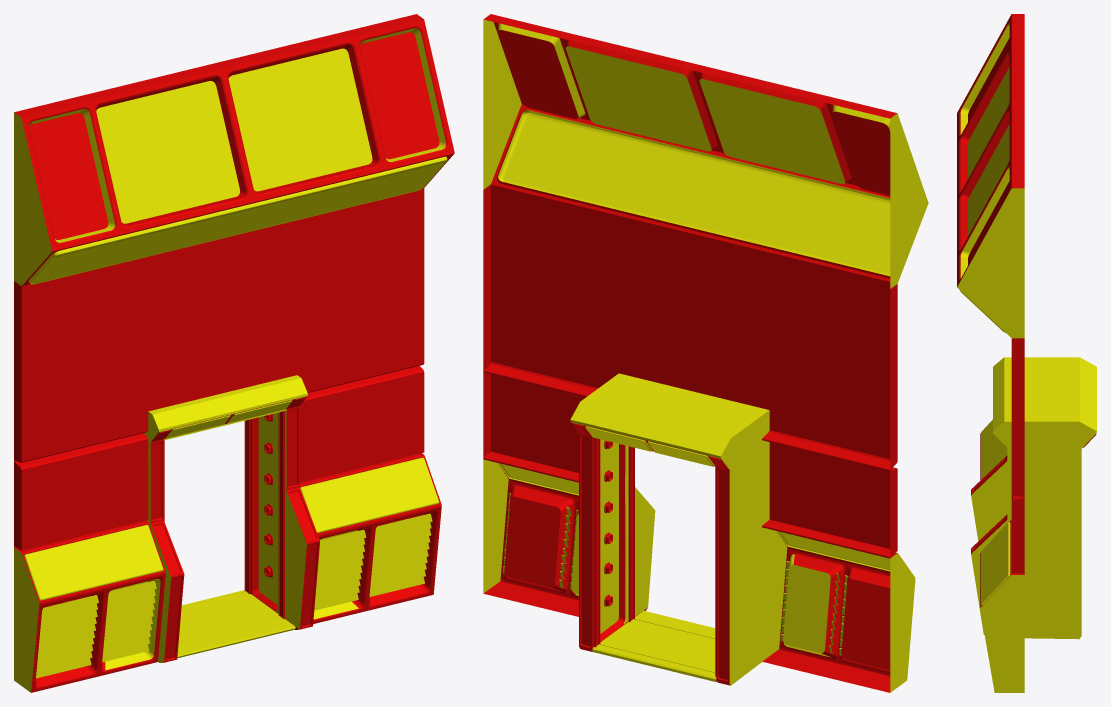
Rendered from Wall_2.fbx.
The picture shows the model from 3 angles, left to right: view 1: azimuth 30°, elevation 25°; view 2: azimuth 150°, elevation 25°; view 3: azimuth 270°, elevation 25°; orthographic projection. The views are drawn at different scales.
Parts seen in each view (by area): view 1: polySurface2583; view 2: polySurface2583; view 3: polySurface2583.
Boxes of the visible parts, left/top/right/bottom form: polySurface2583: left=14, top=14, right=454, bottom=692; polySurface2583: left=483, top=14, right=928, bottom=692; polySurface2583: left=957, top=14, right=1096, bottom=692.
Size of the model in its own units: 564 by 763 by 191.
